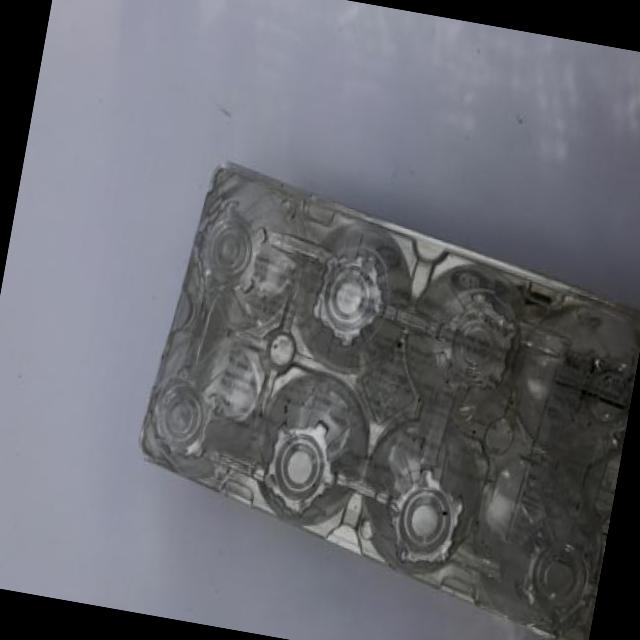Trash: (113, 149, 640, 640)
